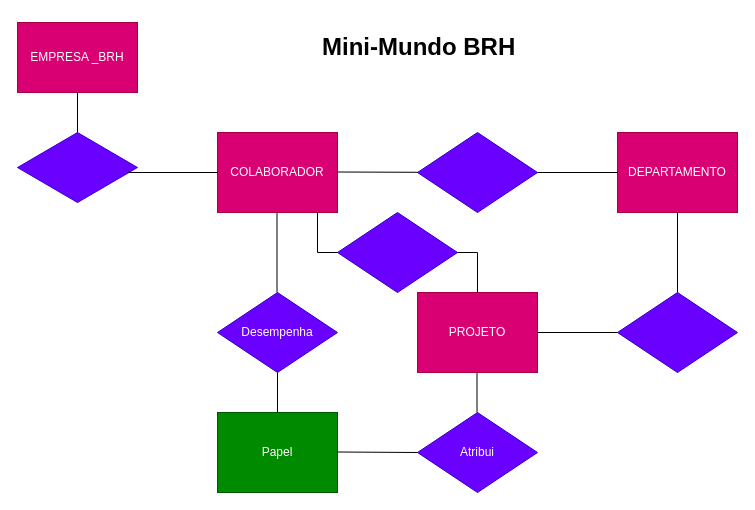
The diagram is 755 pixels wide and 510 high, and some of its shapes have lost their labels. The centre of each missing label's shape, as x and y in pixels:
"alocado" goes at (477,172).
"Contrata" goes at (77,167).
"Executa" goes at (677,332).
"Trabalha" goes at (397,252).
